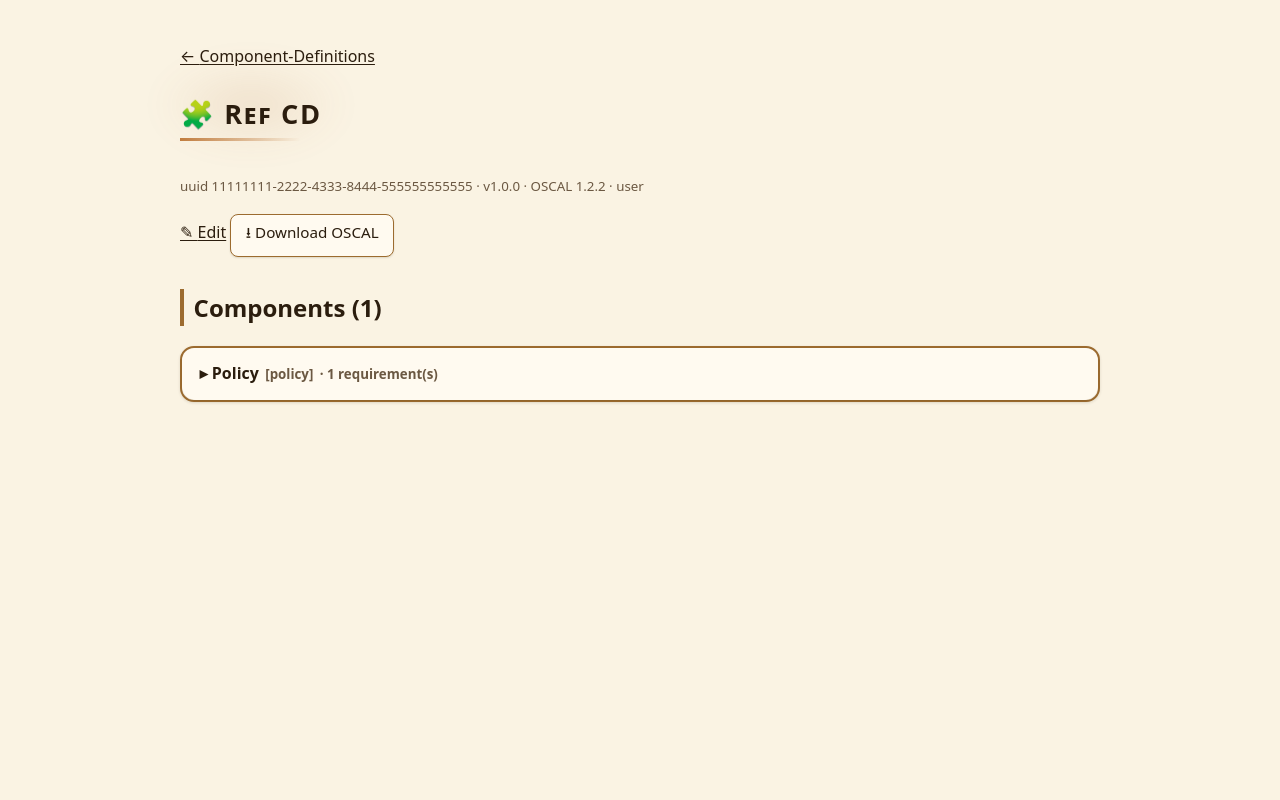
Test: control | description table layout (item 2) › renders the control and the requirement description in separate table cells
This screenshot has width=1280, height=800.
What coordinates should you click on to do the following:
click the button with test id "compdef-component-summary"
I would click on:
 (235, 373)
Its box is [182,348,1098,400].
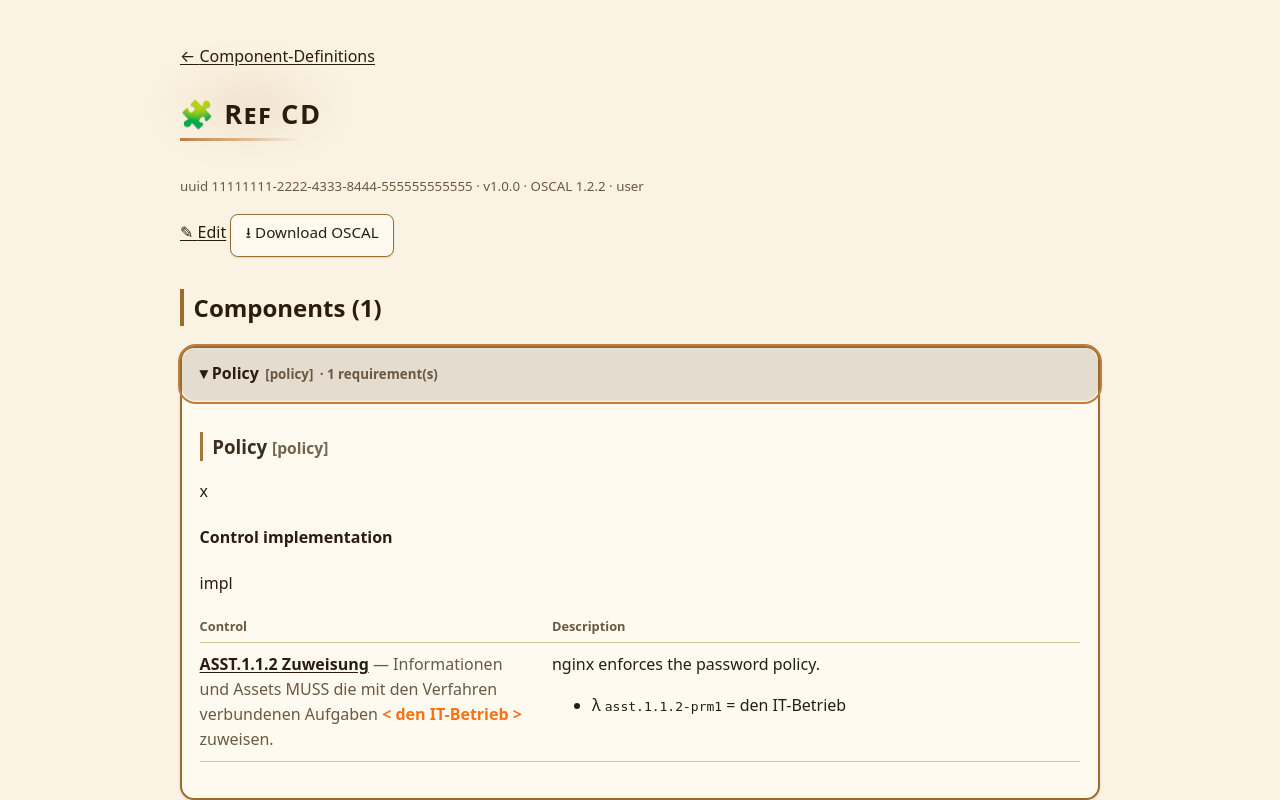
expect the number of cells is 2: met, box [200,642,552,762]; [552,642,1080,762]
expect the element with test id "control-display" is shown: met, box [200,652,532,752]
expect the cell that starts with "nginx enforces the password policy." is shown: met, box [552,653,820,675]
